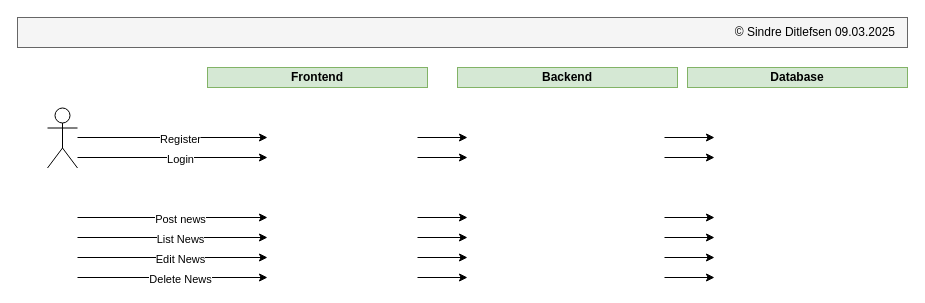
Some shapes in this 925 by 303 pixel diagram are drawn without their labels. The box of each missing label's shape, as (x1, y1, x2, y2) in pixels:
News Diagram: (16, 16, 908, 48)
User: (46, 107, 78, 168)
